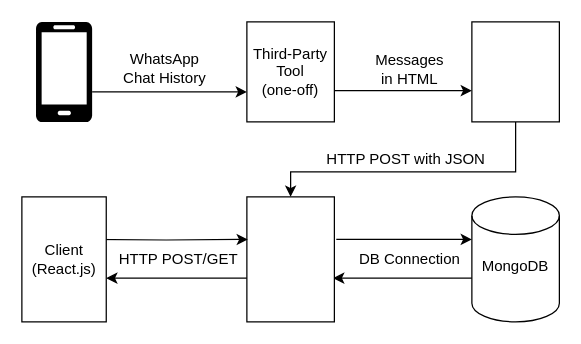
Some shapes in this 581 by 344 pixel diagram are drawn without their labels. Here are the shapes that lost their labels. From the top down, the centre of each, then its label:
the point at 515,71: Haskell Script (one-off)
the point at 290,259: Server (Express.js)
